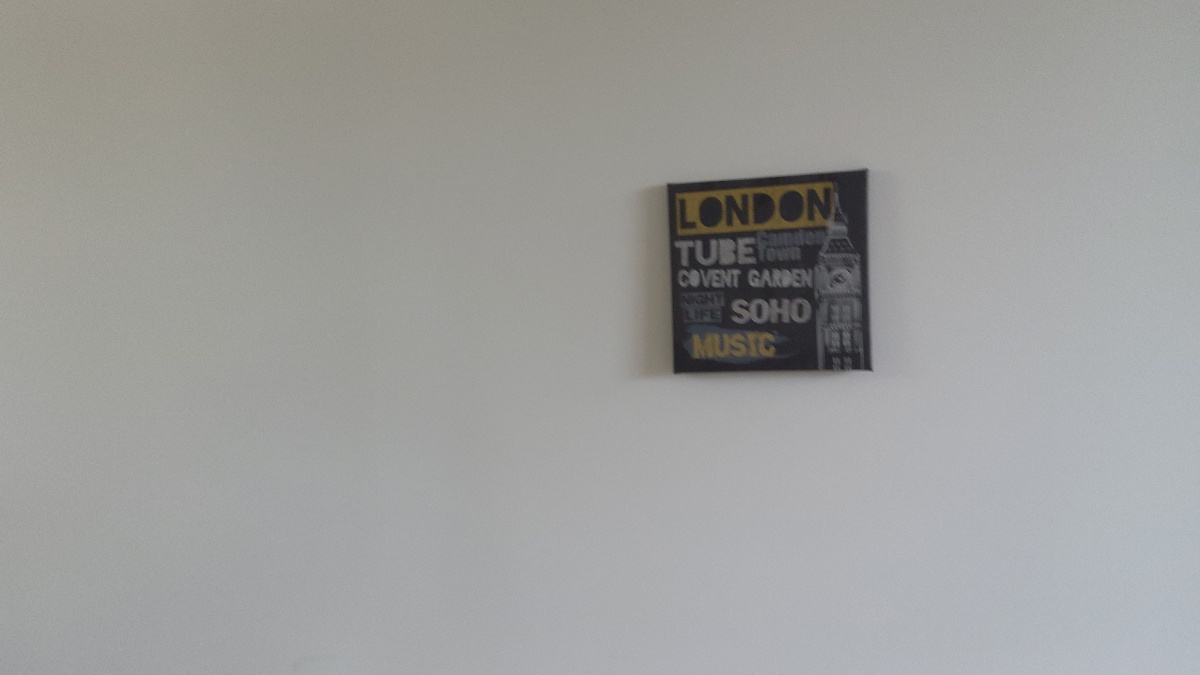poster: (662, 163, 873, 377)
